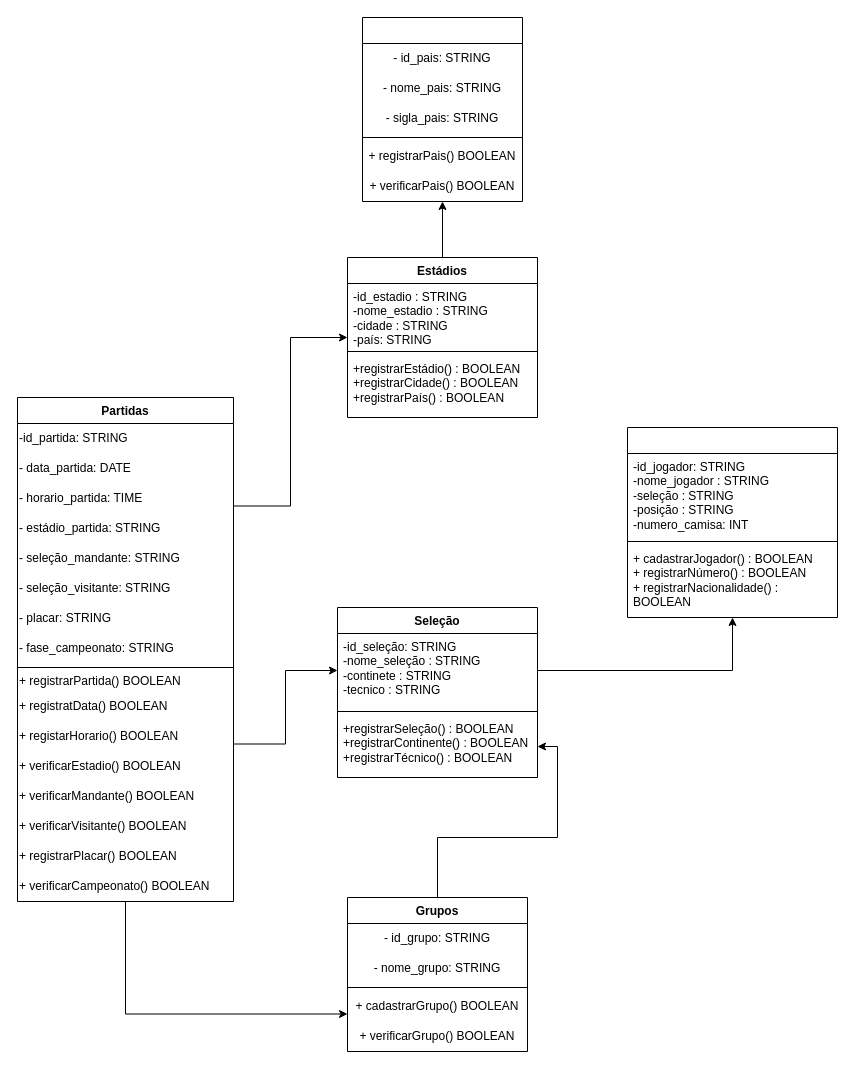
Some shapes in this 855 by 1069 pixel diagram are drawn without their labels. The box of each missing label's shape, as (x1, y1, x2, y2) in pixels:
Jogadores: (626, 426, 838, 618)
Países: (362, 16, 522, 202)
